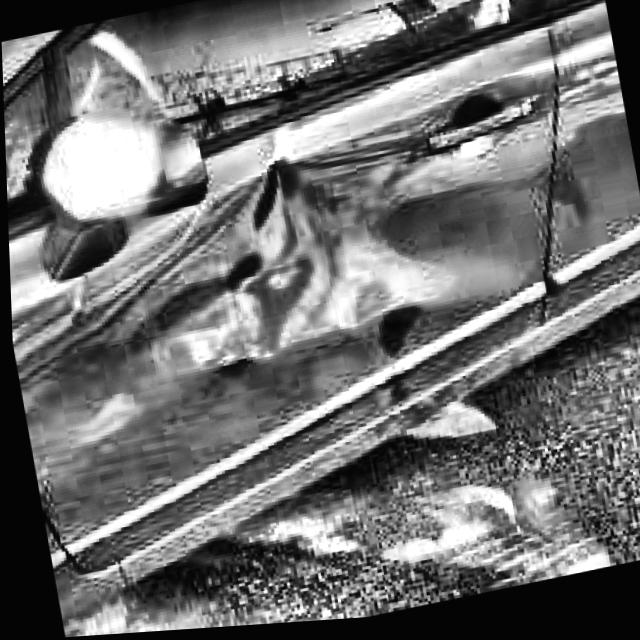door_dent: (170, 138, 469, 373)
